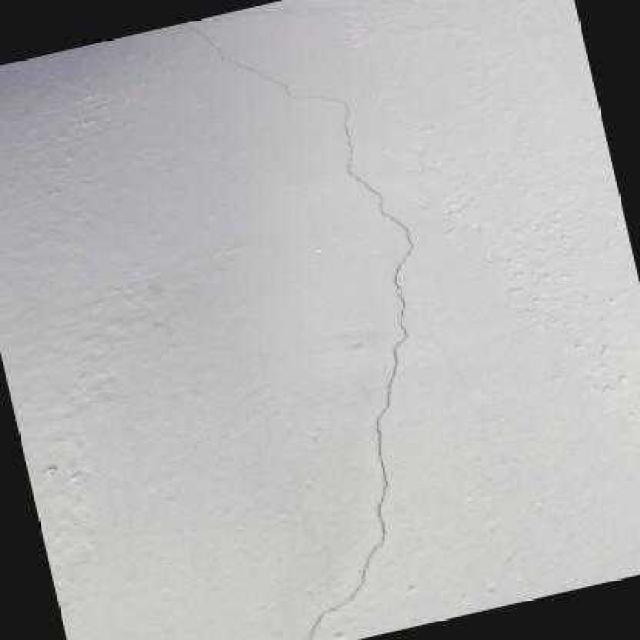D00: (180, 23, 412, 640)
